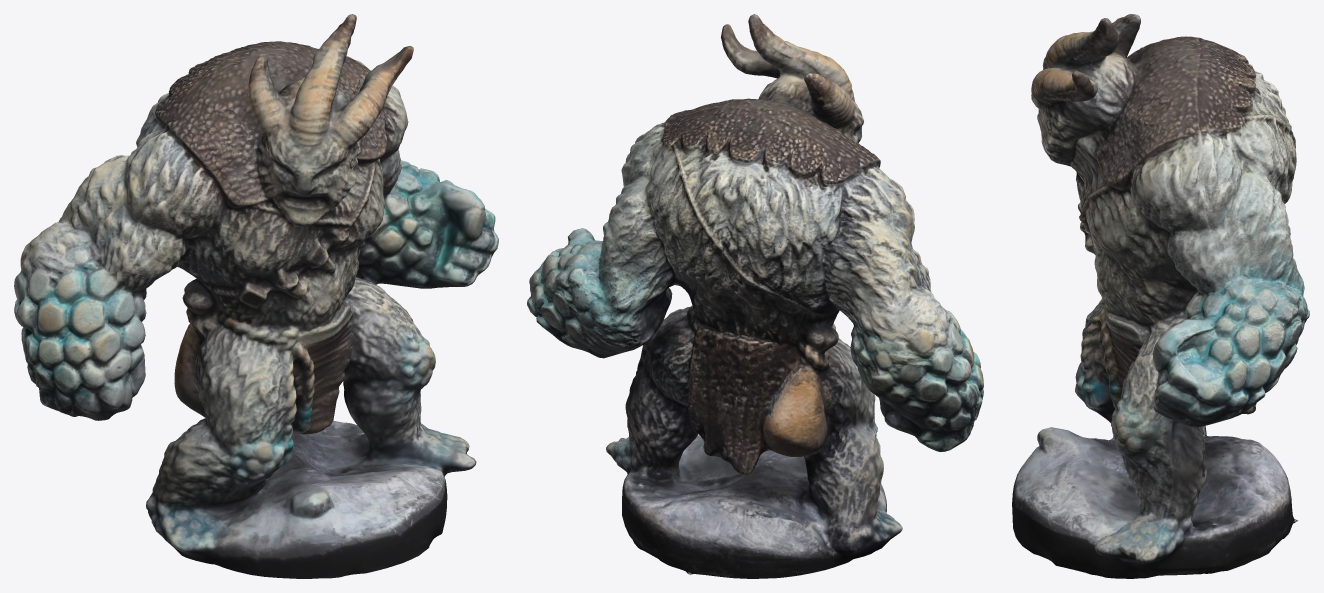
File: Fist.glb
3 views of the same model, side by side, from view 1: azimuth 30°, elevation 25°; view 2: azimuth 150°, elevation 25°; view 3: azimuth 270°, elevation 25° (orthographic). The views are drawn at different scales.
Parts seen in each view (by area): view 1: frozen_fist; view 2: frozen_fist; view 3: frozen_fist.
Boxes of the visible parts, left/top/right/bottom form: frozen_fist: left=14, top=14, right=498, bottom=578; frozen_fist: left=527, top=14, right=983, bottom=578; frozen_fist: left=1012, top=14, right=1309, bottom=578.
Size of the model in its own units: 12.23 by 12.93 by 6.77.
1 material, 1 textured.
